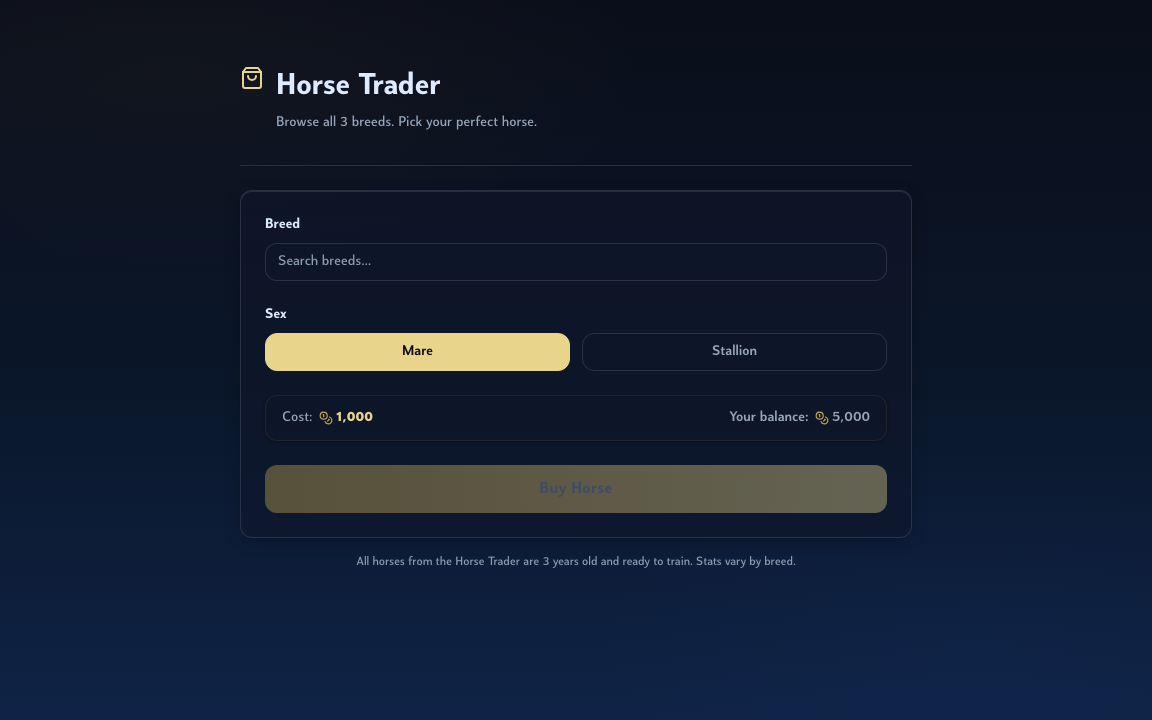
HorseTraderPage — error path › surfaces backend message on 400 insufficient funds response
This screenshot has width=1152, height=720.
Click the dropdown labelled "Breed" at (576,262), box [265,243,887,281]
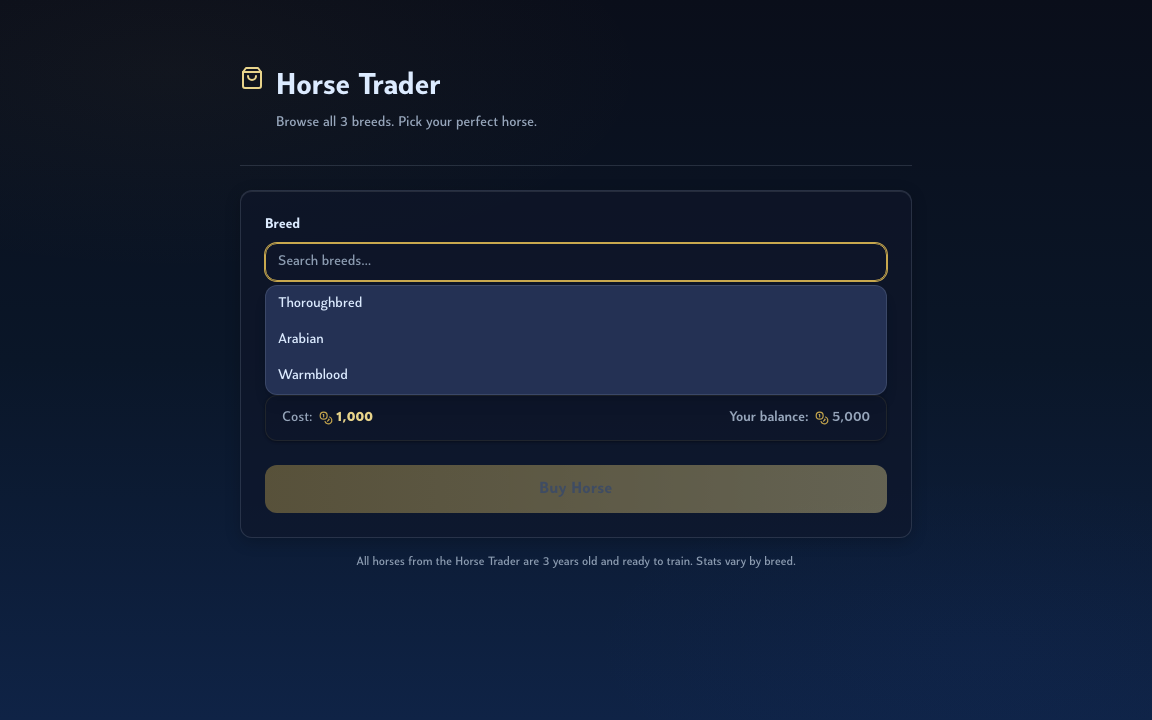
Click the option "Arabian" at (301,340), box [278,332,324,347]
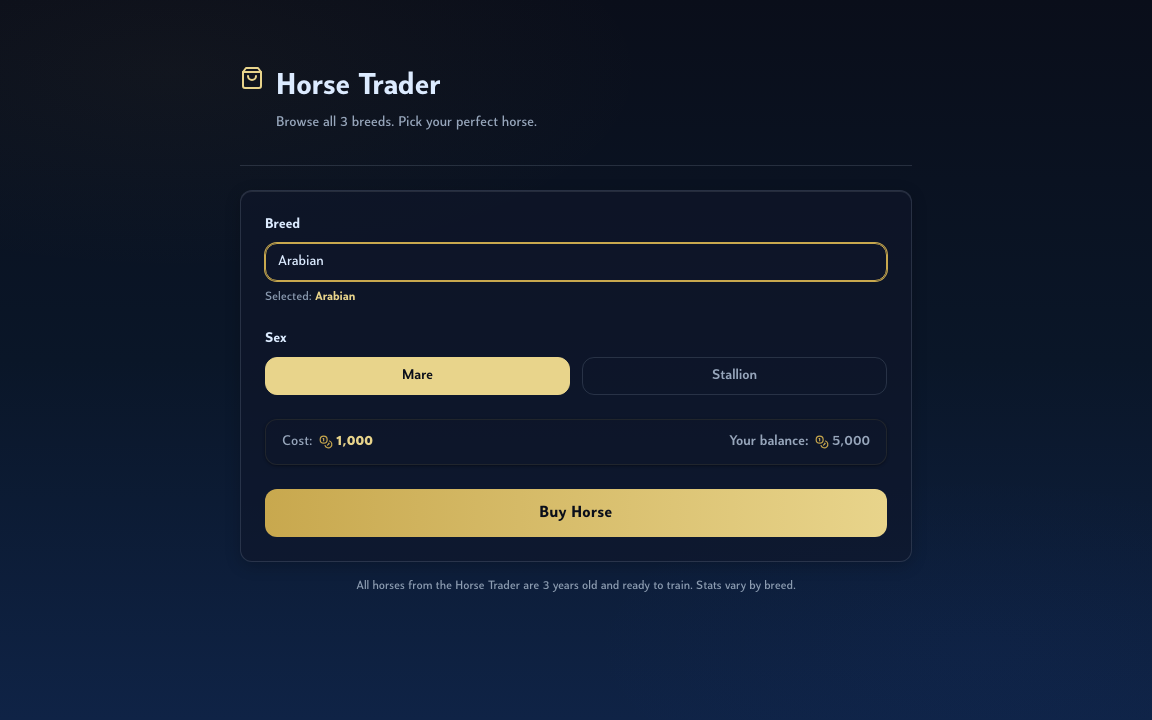
Result: the button with test id "buy-horse-button" is enabled
Click the button with test id "buy-horse-button" at (576,513), box [265,489,887,537]
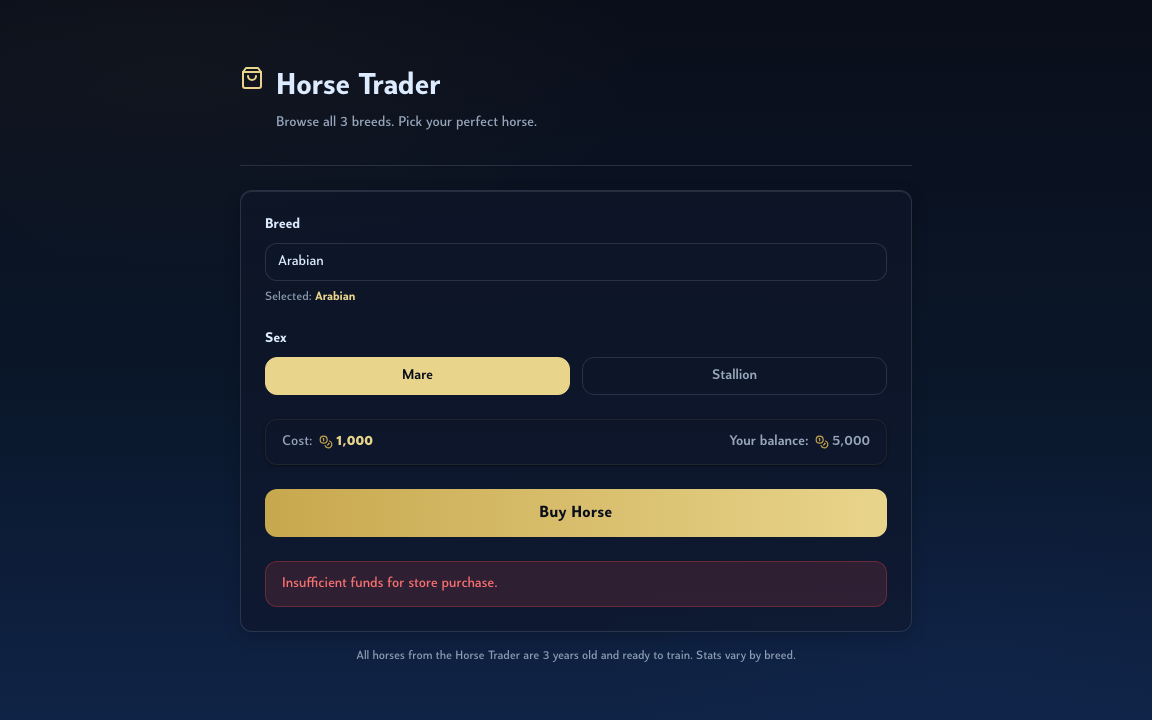
Result: the text with test id "purchase-error" shows "Insufficient funds for store purchase" at [282,576,498,591]
